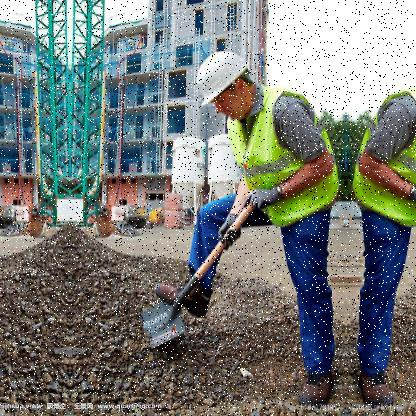Helmet: (197, 47, 264, 129)
